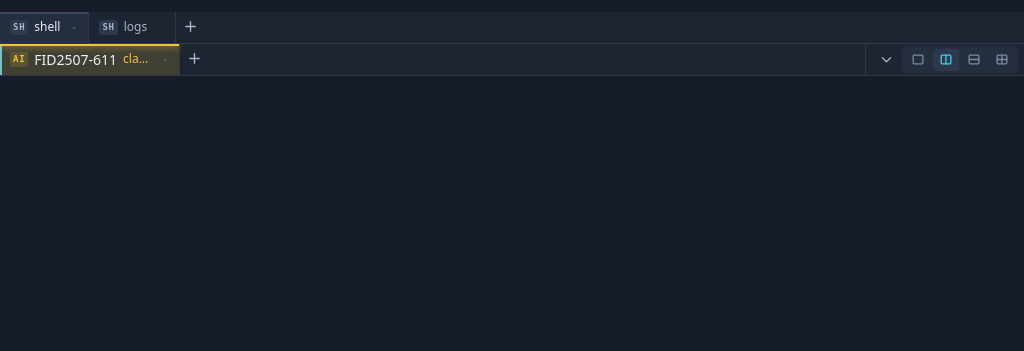
Test: PaneTabBar › a right-click offers the other panes as move targets, never the tab’s own
Right-click the tab with class "ix-tab" showing "SH shell" at [45, 28], box [0,12,89,43]
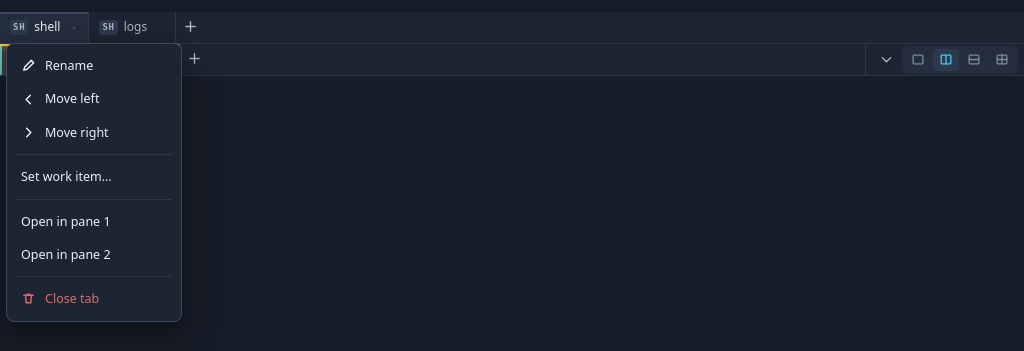
expect the text "Rename" is shown: met, box [45,57,93,74]
expect the text "Close tab" is shown: met, box [45,290,99,307]
expect the menu item with class "ix-menu__item" showing "Open in pane 2" is shown: met, box [12,238,176,271]
